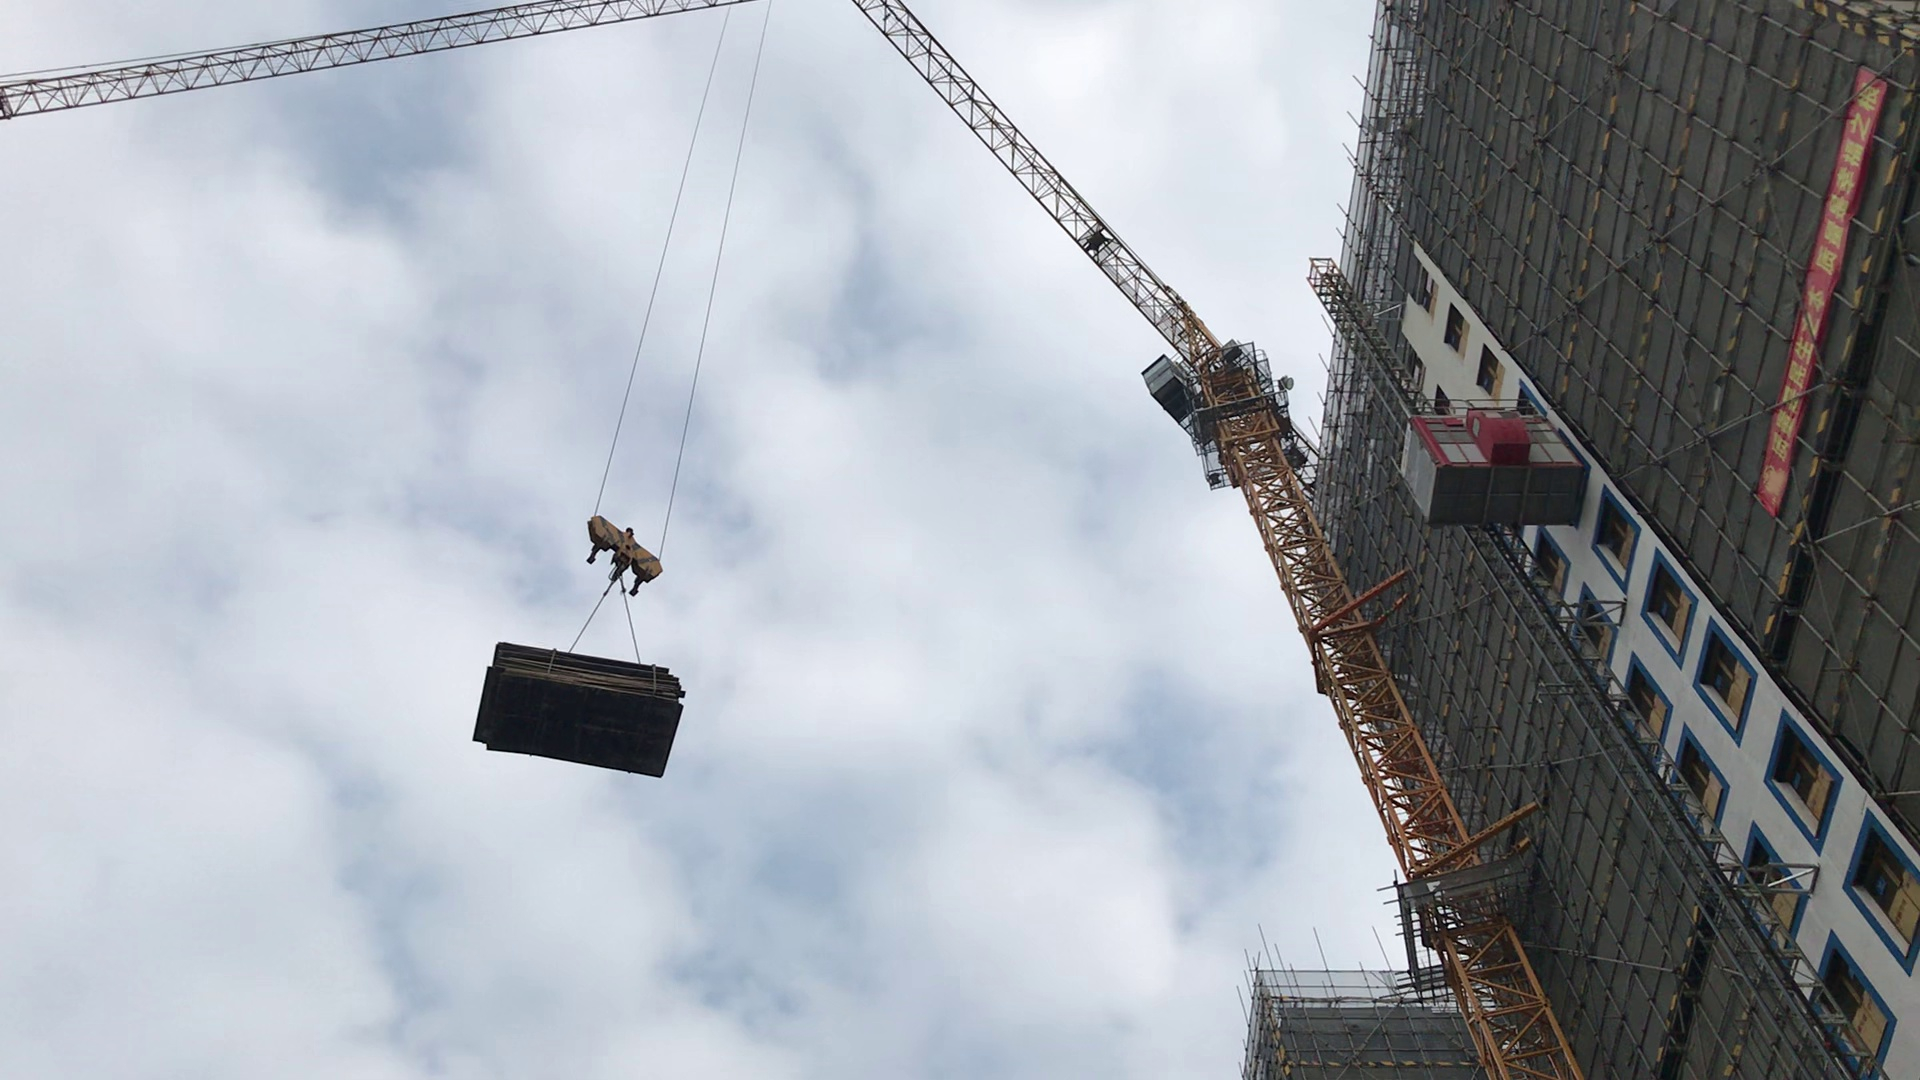board: (452, 624, 737, 814)
hook: (558, 472, 702, 620)
slogan: (1729, 58, 1886, 524)
